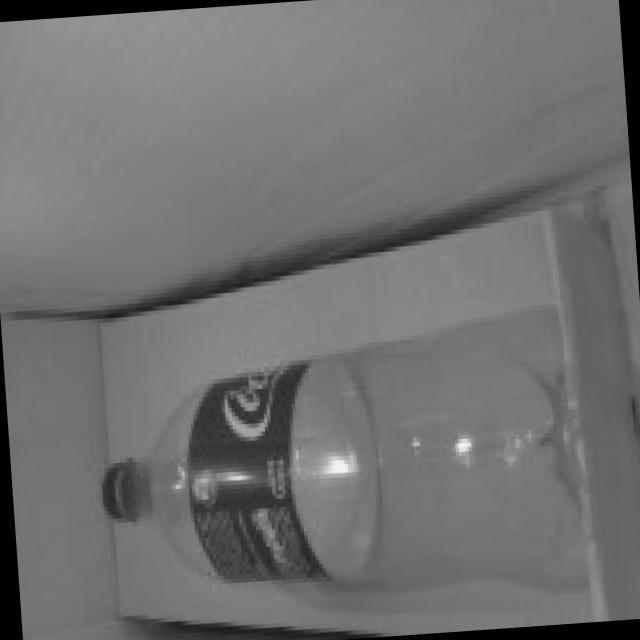good: (75, 296, 616, 624)
